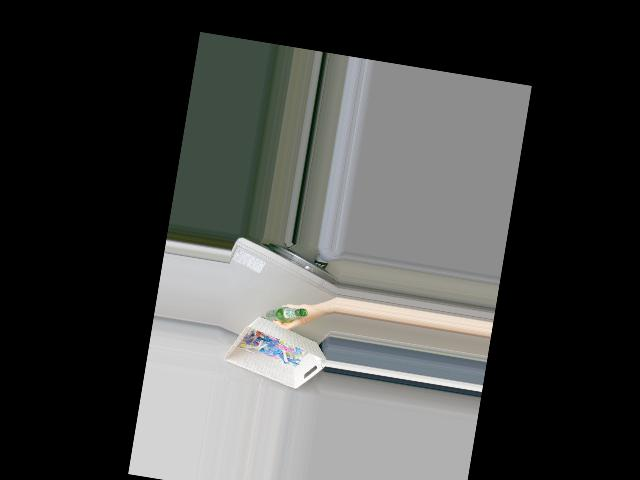beer: (265, 302, 308, 327)
